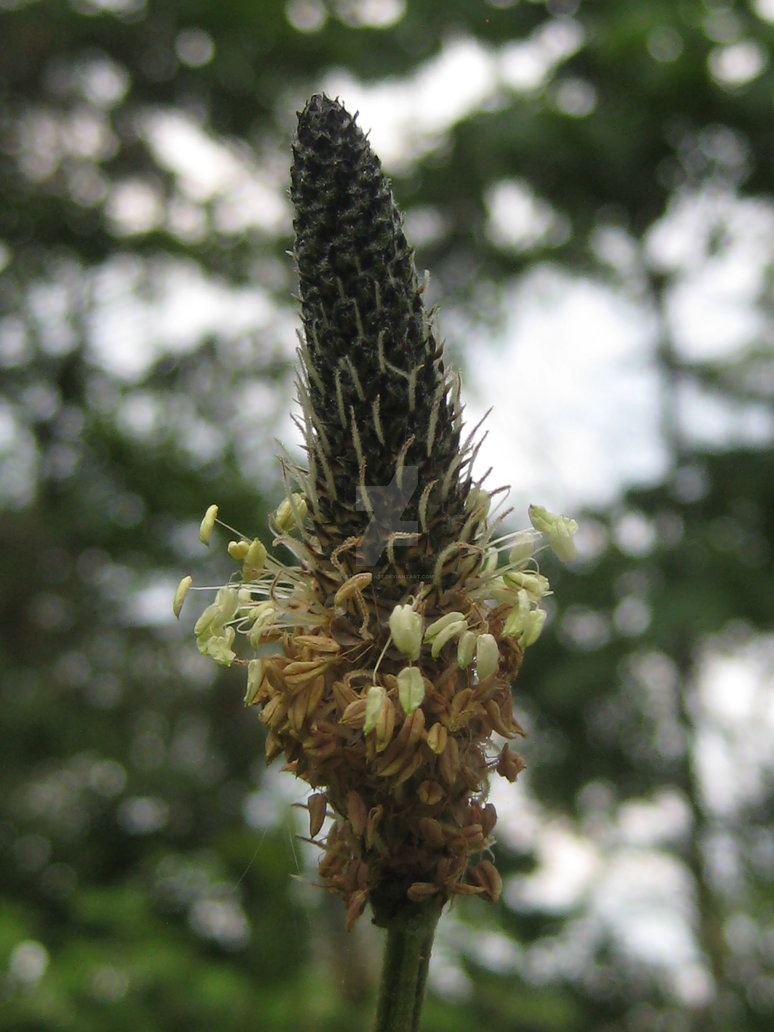buckhorn plantain: (195, 77, 594, 1017)
